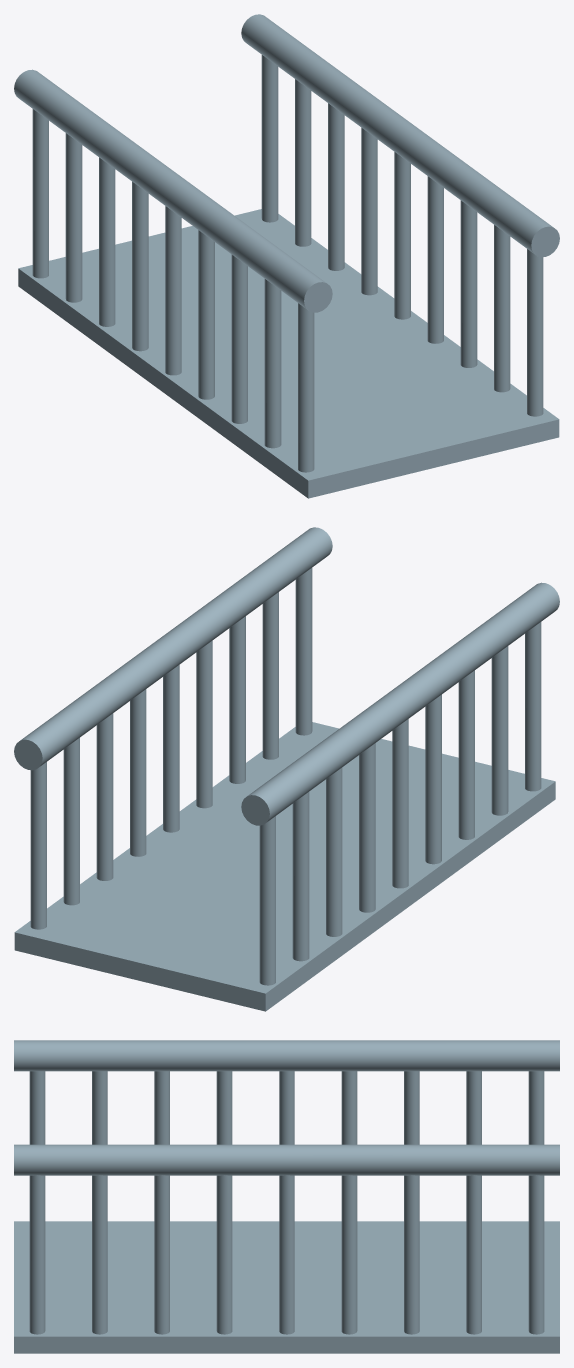
The model's file is tesuri.fbx.
3 views of the same model, one above another, from view 1: azimuth 30°, elevation 25°; view 2: azimuth 150°, elevation 25°; view 3: azimuth 270°, elevation 25° (orthographic). The views are drawn at different scales.
Visible parts, largest first — view 1: pCube1, pCylinder10, pCylinder11, pCylinder9 (×2), pCylinder3 (×2), pCylinder8 (×2), pCylinder2 (×2), pCylinder1 (×2), pCylinder4 (×2), pCylinder5 (×2), pCylinder6 (×2), pCylinder7 (×2); view 2: pCube1, pCylinder10, pCylinder11, pCylinder1 (×2), pCylinder7 (×2), pCylinder2 (×2), pCylinder8 (×2), pCylinder9 (×2), pCylinder6 (×2), pCylinder5 (×2), pCylinder4 (×2), pCylinder3 (×2); view 3: pCube1, pCylinder11, pCylinder10, pCylinder1 (×2), pCylinder4 (×2), pCylinder6 (×2), pCylinder9 (×2), pCylinder2 (×2), pCylinder3 (×2), pCylinder7 (×2), pCylinder8 (×2), pCylinder5 (×2).
Boxes of the visible parts, x1,y1,x2,y2 form: pCube1: [18, 209, 559, 498]; pCylinder10: [241, 14, 559, 257]; pCylinder11: [14, 69, 332, 312]; pCylinder9 (×2): [32, 55, 278, 278]; pCylinder3 (×2): [231, 200, 477, 423]; pCylinder8 (×2): [65, 79, 311, 302]; pCylinder2 (×2): [264, 225, 510, 448]; pCylinder1 (×2): [298, 249, 543, 472]; pCylinder4 (×2): [198, 176, 443, 399]; pCylinder5 (×2): [165, 152, 410, 375]; pCylinder6 (×2): [132, 127, 377, 351]; pCylinder7 (×2): [99, 103, 344, 326]; pCube1: [14, 722, 555, 1011]; pCylinder10: [14, 527, 332, 770]; pCylinder11: [241, 582, 559, 825]; pCylinder1 (×2): [295, 568, 541, 791]; pCylinder7 (×2): [96, 713, 342, 936]; pCylinder2 (×2): [262, 592, 508, 815]; pCylinder8 (×2): [63, 738, 309, 961]; pCylinder9 (×2): [30, 762, 275, 985]; pCylinder6 (×2): [130, 689, 375, 912]; pCylinder5 (×2): [163, 665, 408, 888]; pCylinder4 (×2): [196, 640, 441, 864]; pCylinder3 (×2): [229, 616, 474, 839]; pCube1: [14, 1221, 559, 1353]; pCylinder11: [14, 1040, 559, 1071]; pCylinder10: [14, 1144, 559, 1175]; pCylinder1 (×2): [29, 1071, 45, 1334]; pCylinder4 (×2): [216, 1071, 232, 1334]; pCylinder6 (×2): [341, 1071, 357, 1334]; pCylinder9 (×2): [528, 1071, 544, 1334]; pCylinder2 (×2): [92, 1071, 107, 1334]; pCylinder3 (×2): [154, 1071, 169, 1334]; pCylinder7 (×2): [404, 1071, 419, 1334]; pCylinder8 (×2): [466, 1071, 481, 1334]; pCylinder5 (×2): [279, 1071, 294, 1334].
Size of the model in its own units: 8.92 by 7.12 by 17.5.
